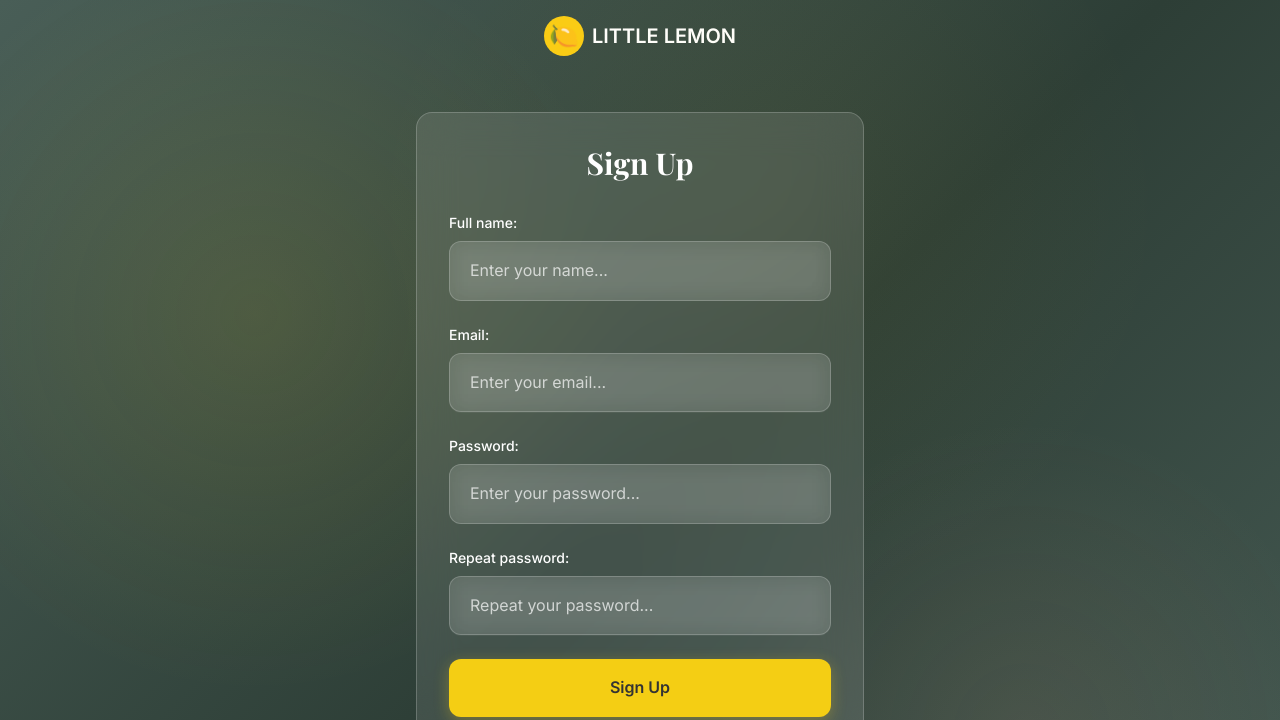
Test case: SignUpForm › validates email format
// Enter invalid email
Type "invalid-email" into the field labelled "Email:" at (640, 382), box [449, 353, 831, 412]
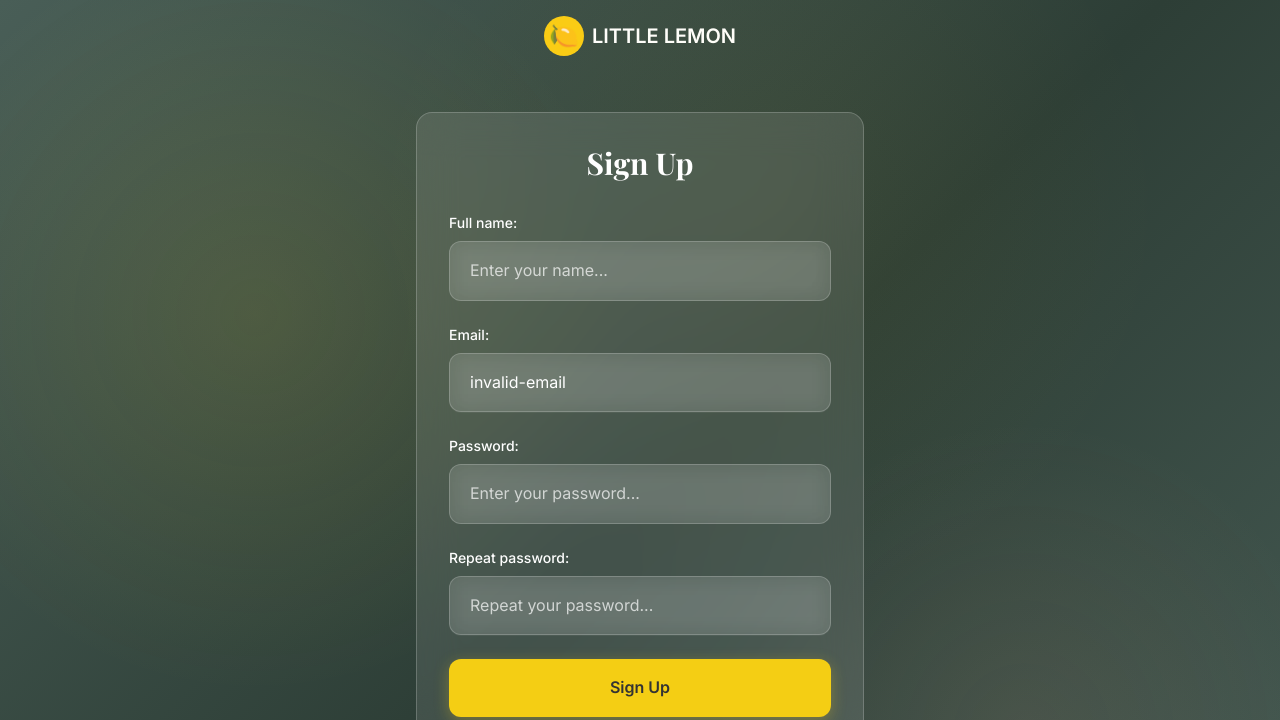
// Submit form
Click the button "Sign Up" at (640, 688), box [449, 659, 831, 717]
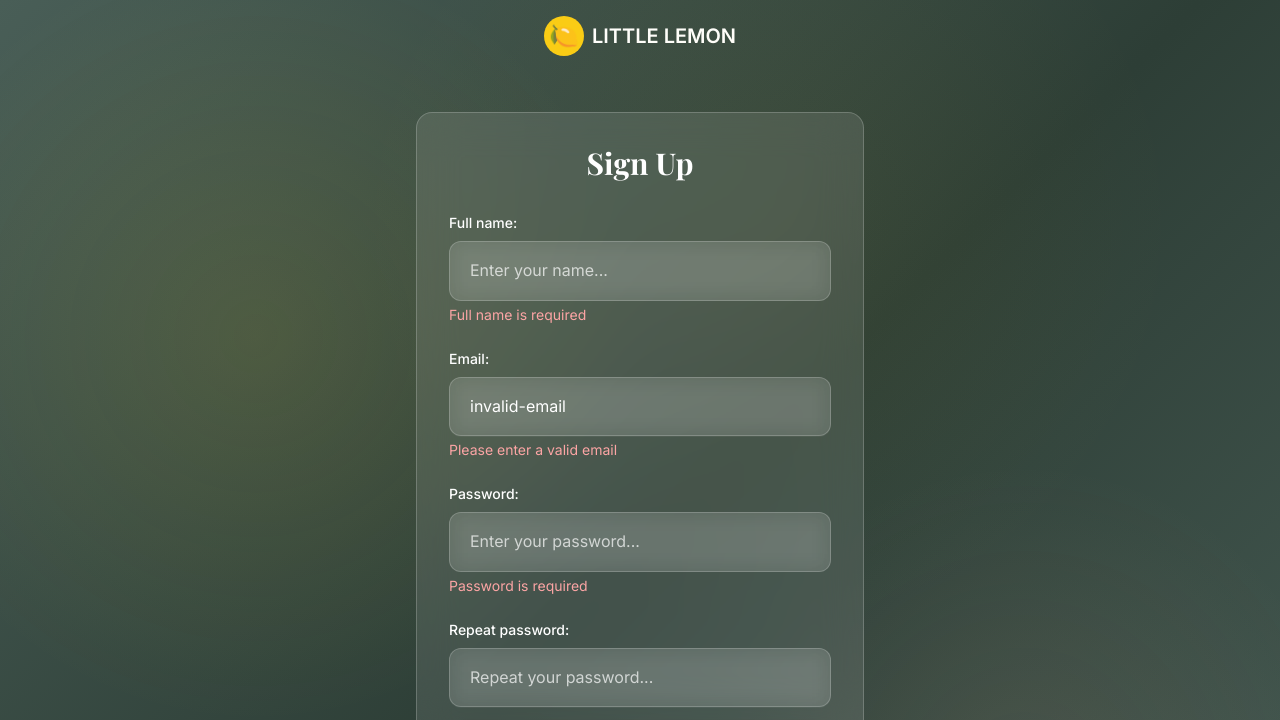
Result: the text "Please enter a valid email" is shown at [449, 441, 617, 458]
